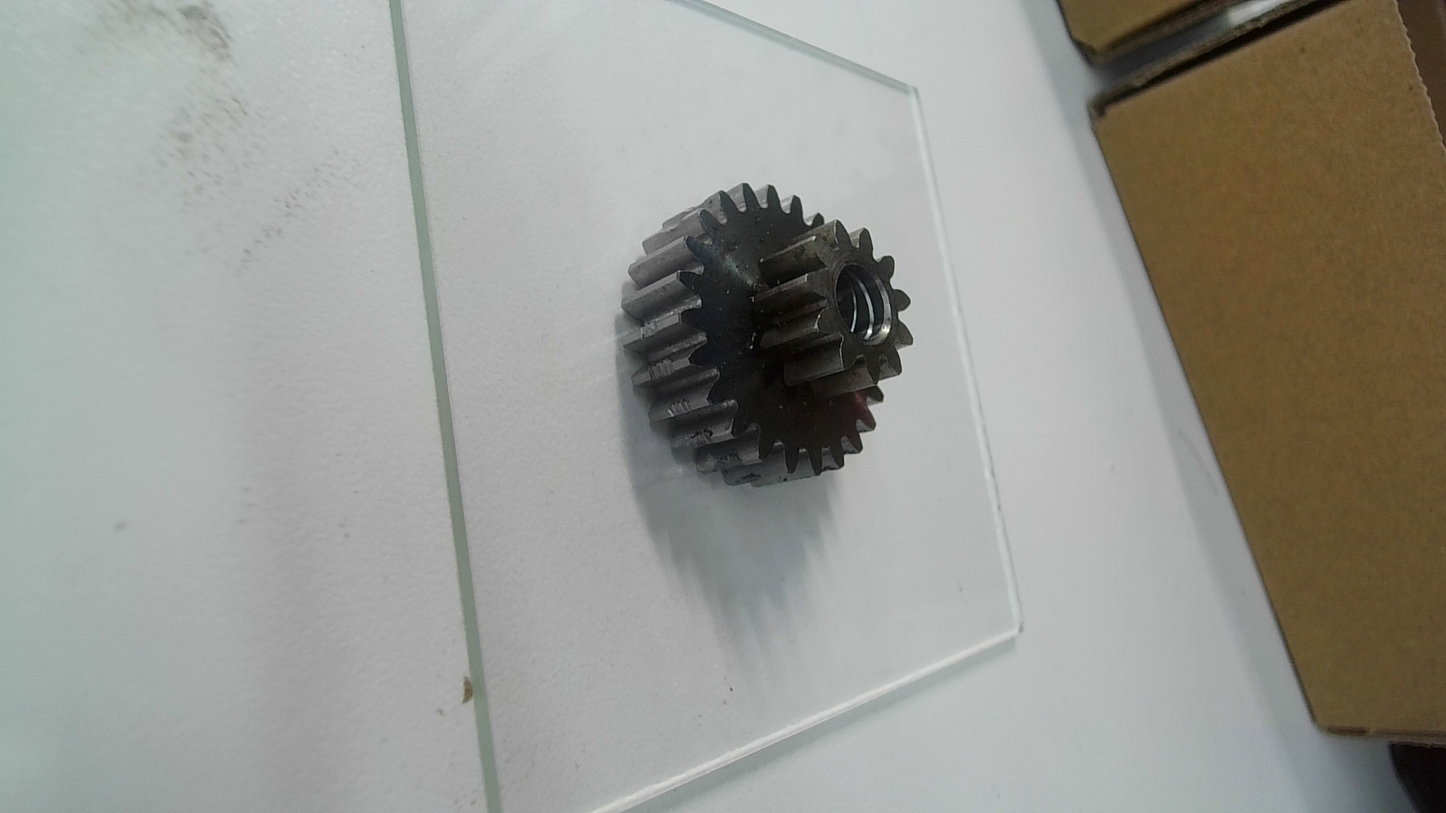gear: (608, 181, 915, 492)
